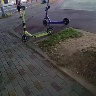beam: (39, 1, 75, 27)
gcooter: (15, 4, 56, 44)
